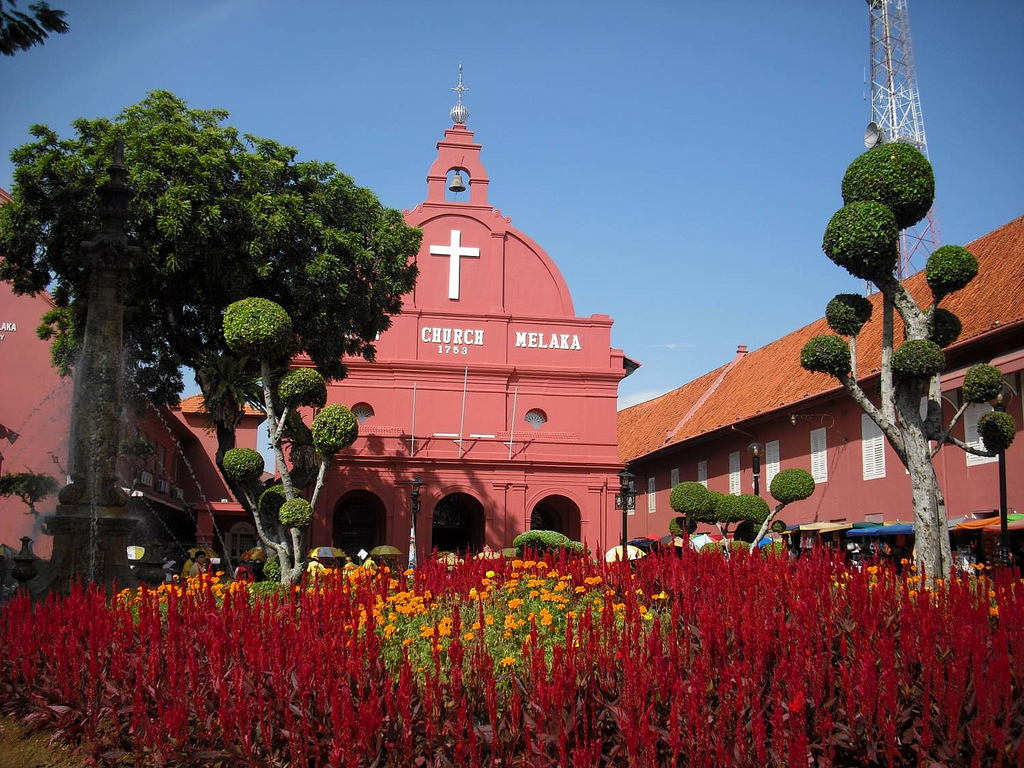Church: (270, 63, 626, 546)
